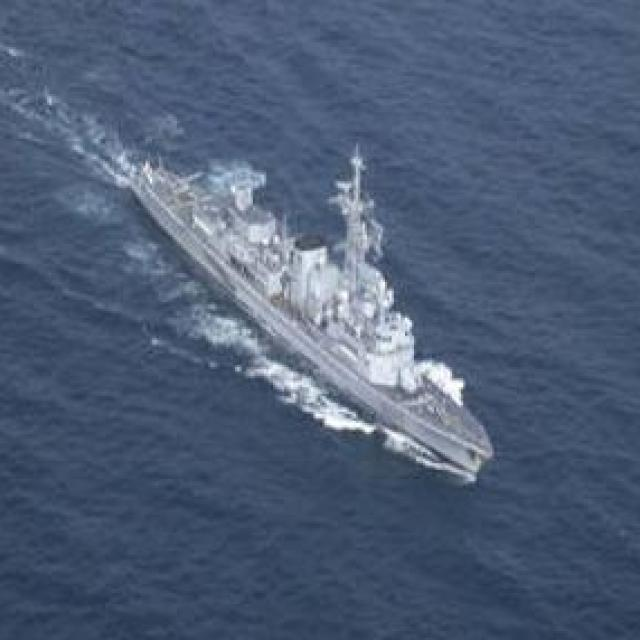navalvessels: (122, 143, 497, 484)
